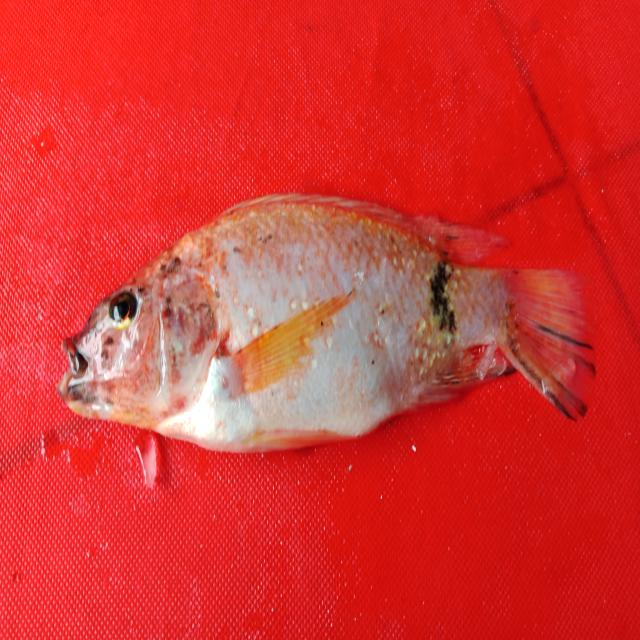ikan: (41, 170, 614, 476)
